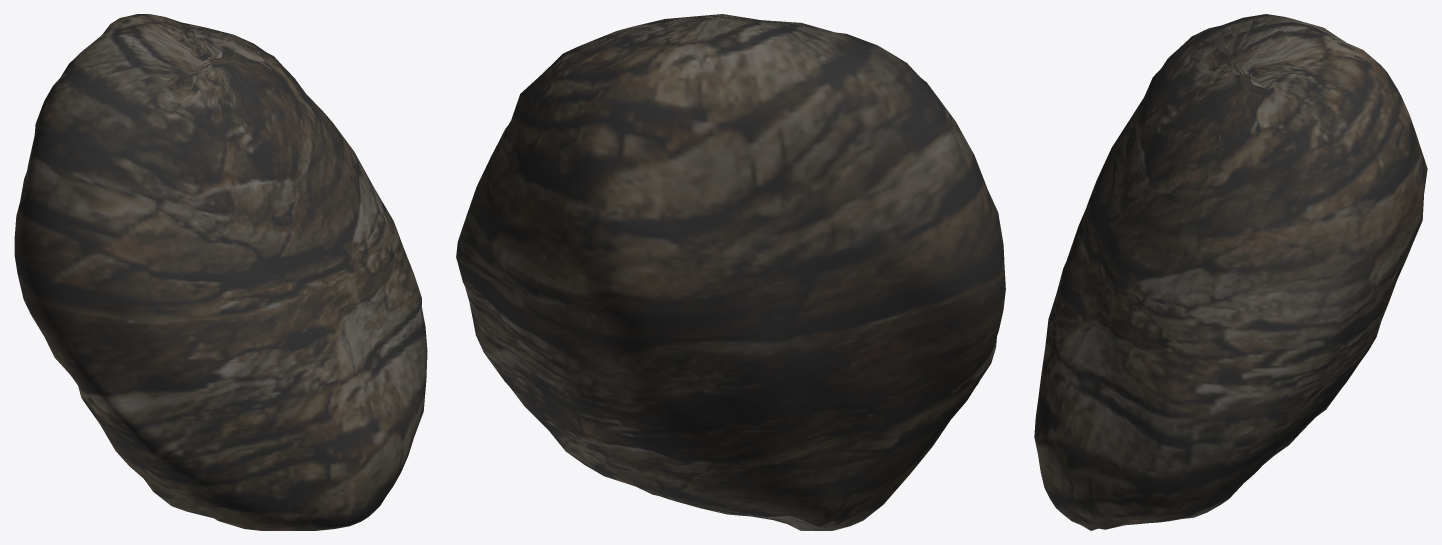
3 renders of one model, left to right at view 1: azimuth 30°, elevation 25°; view 2: azimuth 150°, elevation 25°; view 3: azimuth 270°, elevation 25°, orthographic. The views are drawn at different scales.
Parts seen in each view (by area): view 1: AsteroidC4; view 2: AsteroidC4; view 3: AsteroidC4.
Boxes of the visible parts, left/top/right/bottom form: AsteroidC4: left=14, top=14, right=427, bottom=530; AsteroidC4: left=456, top=14, right=1005, bottom=530; AsteroidC4: left=1034, top=14, right=1427, bottom=530.
Size of the model in its own units: 1.49 by 1.63 by 1.33.
Materials: 1 (1 with a texture image).
